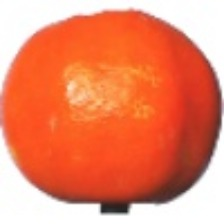tangerine: (8, 59, 180, 193)
